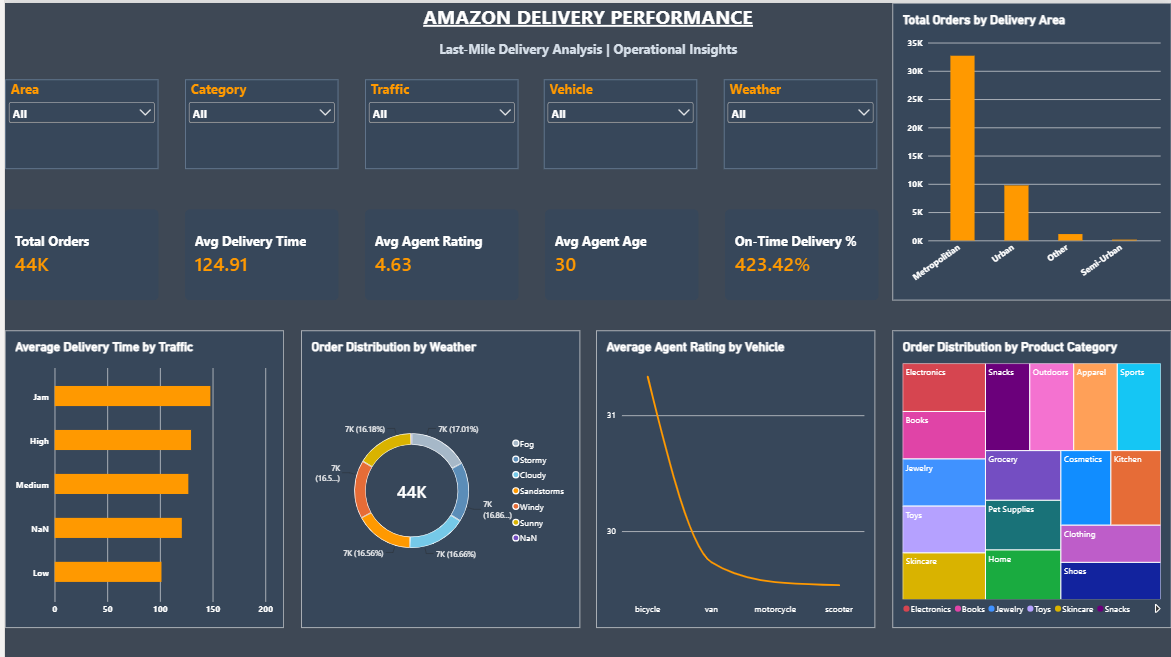

The page's visual inventory and layout, read from the dashboard file:
{"tool":"powerbi","page":{"name":"Page 1","canvas":[1920,1080],"ordinal":0},"visuals":[{"type":"textbox","box":[0,0,1920.4,100.9],"z":0},{"type":"slicer","fields":{"Values":["amazon_delivery.Area"]},"box":[0,125.6,253.2,148.2],"z":1},{"type":"slicer","fields":{"Values":["amazon_delivery.Category"]},"box":[295.9,125.6,253.2,148.2],"z":2},{"type":"slicer","fields":{"Values":["amazon_delivery.Traffic"]},"box":[591.8,125.6,253.2,148.2],"z":3},{"type":"slicer","fields":{"Values":["amazon_delivery.Vehicle"]},"box":[887.7,125.6,253.2,148.2],"z":4},{"type":"slicer","fields":{"Values":["amazon_delivery.Weather"]},"box":[1183.5,125.6,253.2,148.2],"z":5},{"type":"cardVisual","fields":{"Data":["amazon_delivery.Total Orders"]},"box":[0,340,253,150],"z":6},{"type":"cardVisual","fields":{"Data":["amazon_delivery.Avg Delivery Time"]},"box":[296.4,339.6,253,150],"z":7},{"type":"cardVisual","fields":{"Data":["amazon_delivery.Avg Agent Rating"]},"box":[592.8,339.6,253,150],"z":8},{"type":"cardVisual","fields":{"Data":["amazon_delivery.Avg Agent Age"]},"box":[889.2,339.6,253,150],"z":9},{"type":"cardVisual","fields":{"Data":["amazon_delivery.On-Time Delivery %"]},"box":[1185.6,339.6,253,150],"z":10},{"type":"columnChart","title":"Total Orders by Delivery Area","fields":{"Category":["amazon_delivery.Area"],"Y":["amazon_delivery.Total Orders"]},"box":[1461.4,0,459,489.9],"z":11},{"type":"clusteredBarChart","title":"Average Delivery Time by Traffic","fields":{"Category":["amazon_delivery.Traffic"],"Y":["amazon_delivery.Avg Delivery Time"]},"box":[0,539.3,459,489.9],"z":12},{"type":"donutChart","title":"Order Distribution by Weather","fields":{"Category":["amazon_delivery.Weather"],"Y":["amazon_delivery.Total Orders"]},"box":[487.1,539.3,459,489.9],"z":13},{"type":"lineChart","title":"Average Agent Rating by Vehicle","fields":{"Category":["amazon_delivery.Vehicle"],"Y":["amazon_delivery.Avg Agent Age"]},"box":[974.3,539.3,459,489.9],"z":14},{"type":"treemap","title":"Order Distribution by Product Category","fields":{"Group":["amazon_delivery.Category"],"Values":["amazon_delivery.Total Orders"]},"box":[1461,539.3,459,489.9],"z":15}]}

Visuals, with their boxes in screenshot pixels (x1, y1, x2, y2), scaled from the page's 1920x1080 canvas onto the 1171x657 screenshot:
textbox: x1=0 y1=0 x2=1170 y2=61
slicer - amazon_delivery.Area: x1=0 y1=76 x2=154 y2=167
slicer - amazon_delivery.Category: x1=180 y1=76 x2=335 y2=167
slicer - amazon_delivery.Traffic: x1=361 y1=76 x2=515 y2=167
slicer - amazon_delivery.Vehicle: x1=541 y1=76 x2=696 y2=167
slicer - amazon_delivery.Weather: x1=722 y1=76 x2=876 y2=167
cardVisual - amazon_delivery.Total Orders: x1=0 y1=207 x2=154 y2=298
cardVisual - amazon_delivery.Avg Delivery Time: x1=181 y1=207 x2=335 y2=298
cardVisual - amazon_delivery.Avg Agent Rating: x1=362 y1=207 x2=516 y2=298
cardVisual - amazon_delivery.Avg Agent Age: x1=542 y1=207 x2=697 y2=298
cardVisual - amazon_delivery.On-Time Delivery %: x1=723 y1=207 x2=877 y2=298
"Total Orders by Delivery Area" columnChart: x1=891 y1=0 x2=1170 y2=298
"Average Delivery Time by Traffic" clusteredBarChart: x1=0 y1=328 x2=280 y2=626
"Order Distribution by Weather" donutChart: x1=297 y1=328 x2=577 y2=626
"Average Agent Rating by Vehicle" lineChart: x1=594 y1=328 x2=874 y2=626
"Order Distribution by Product Category" treemap: x1=891 y1=328 x2=1170 y2=626
